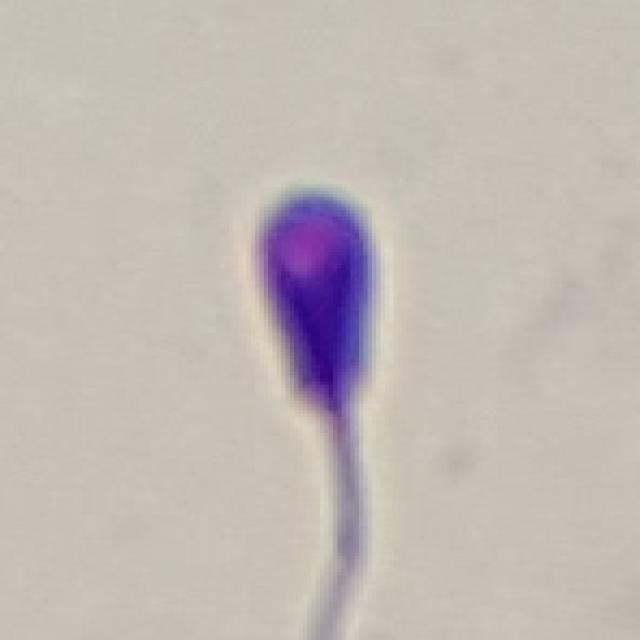abnormal sperm: (248, 182, 382, 547)
